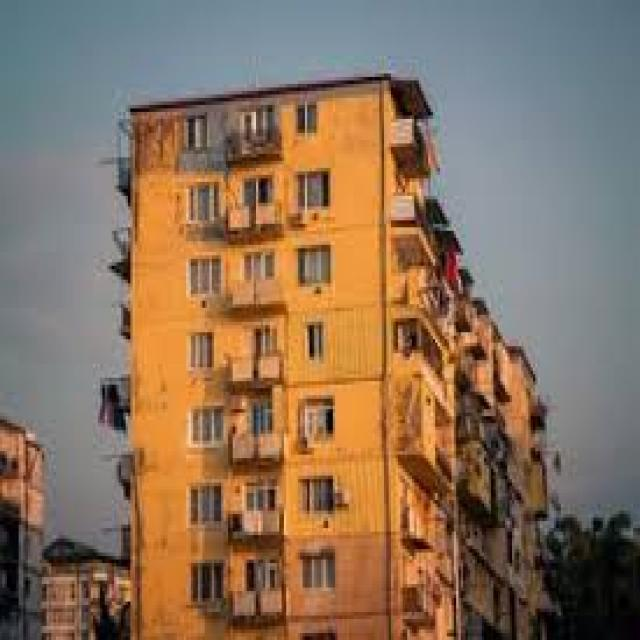window: (293, 479, 340, 525), (294, 402, 338, 451), (293, 168, 333, 220), (182, 560, 224, 608), (188, 483, 226, 535), (184, 325, 214, 385), (189, 406, 228, 451), (188, 182, 224, 227), (300, 242, 333, 290), (189, 255, 221, 301), (303, 553, 335, 591), (298, 98, 323, 143), (305, 322, 326, 371), (186, 112, 205, 161)
